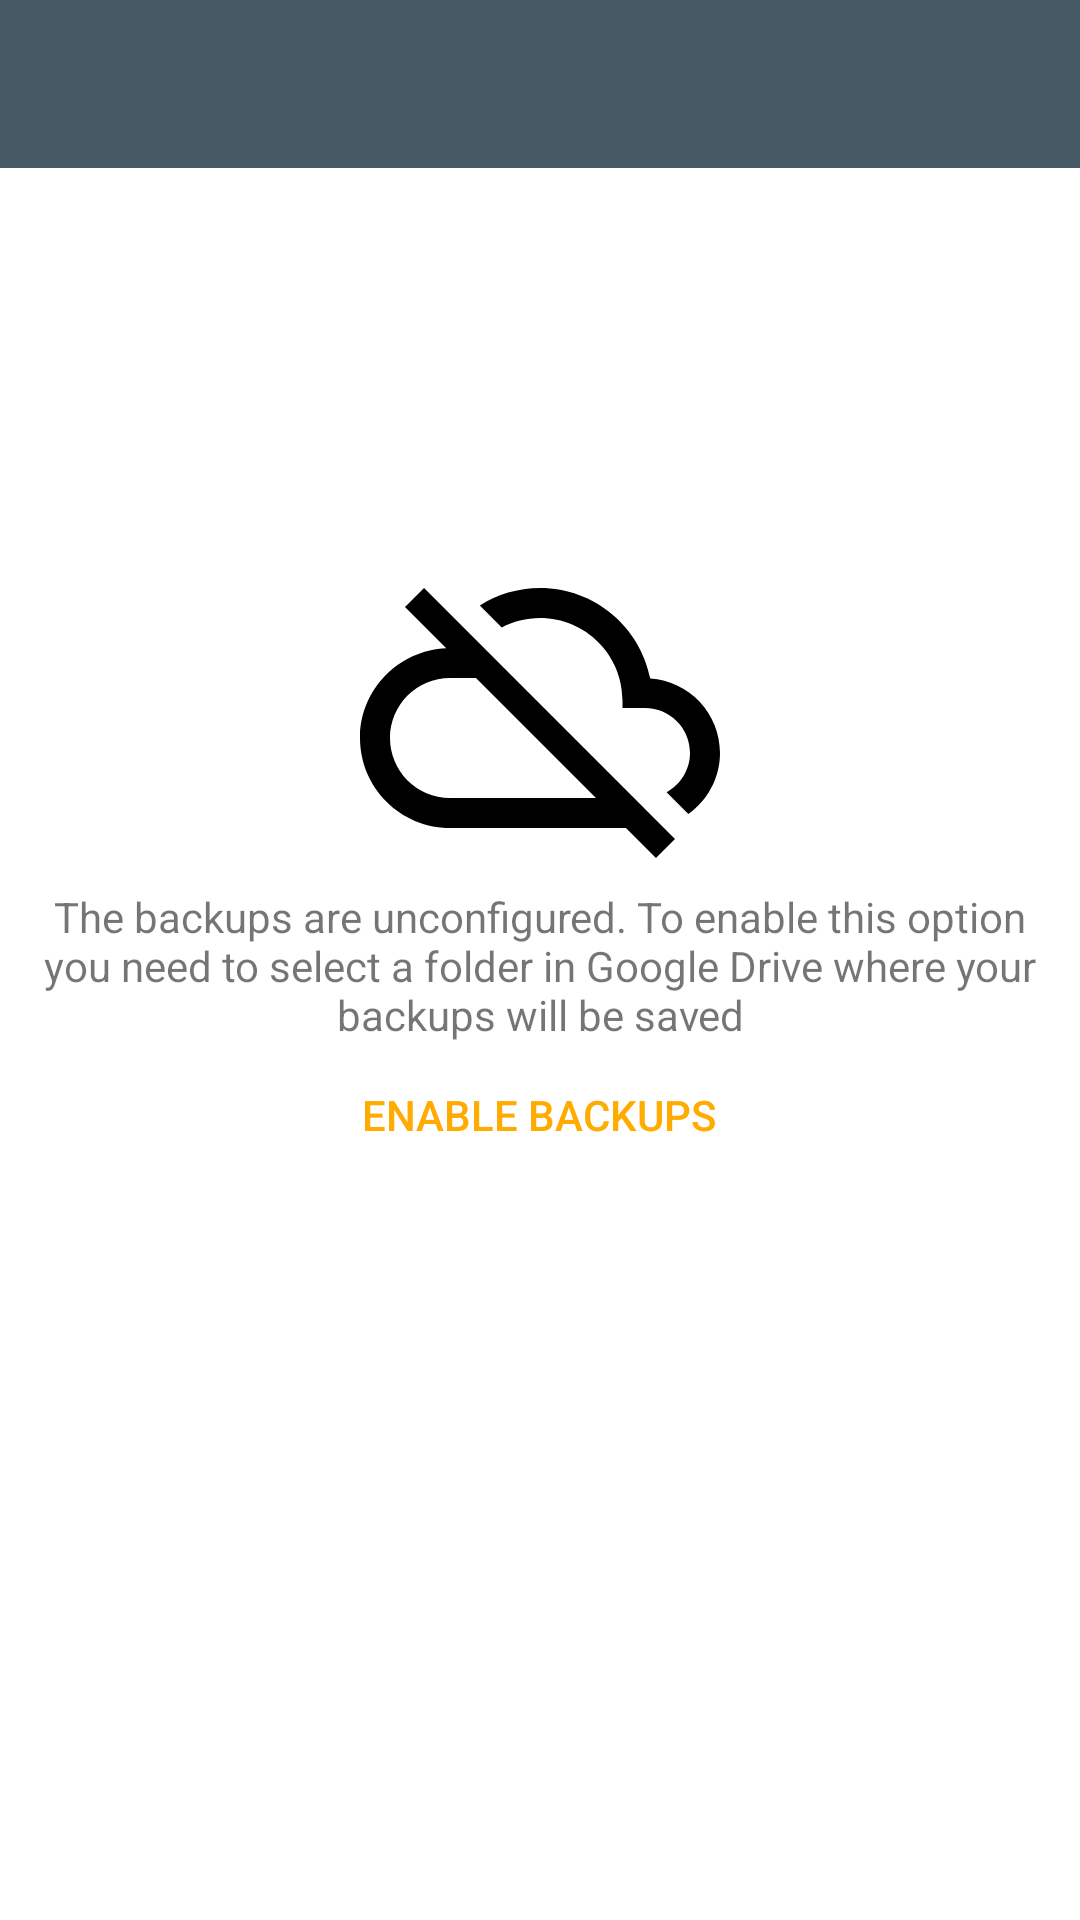

Screen size 1080w x 1920h. Icon name, then its box in pixels as region(x1, y1, x2, y2):
cloud off: region(360, 588, 720, 858)
